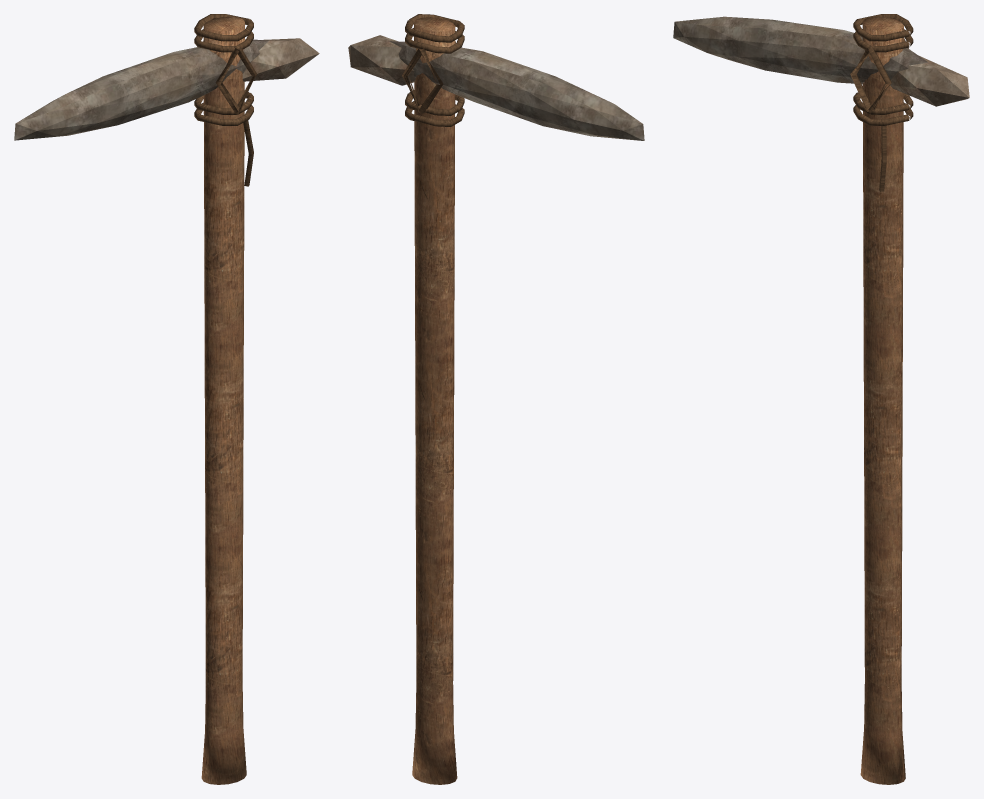
File: b_tool_pick2.glb
3 renders of one model, left to right at view 1: azimuth 30°, elevation 25°; view 2: azimuth 150°, elevation 25°; view 3: azimuth 330°, elevation 25°, orthographic.
Visible parts, largest first — view 1: b_tool_pick2; view 2: b_tool_pick2; view 3: b_tool_pick2.
Boxes of the visible parts, bbox=[...] form: b_tool_pick2: bbox=[14, 14, 319, 784]; b_tool_pick2: bbox=[348, 14, 644, 784]; b_tool_pick2: bbox=[673, 14, 969, 784].
Bounding box in the file's own units: 0.3434 × 0.8213 × 0.059.
Materials: 3 (3 with a texture image).
